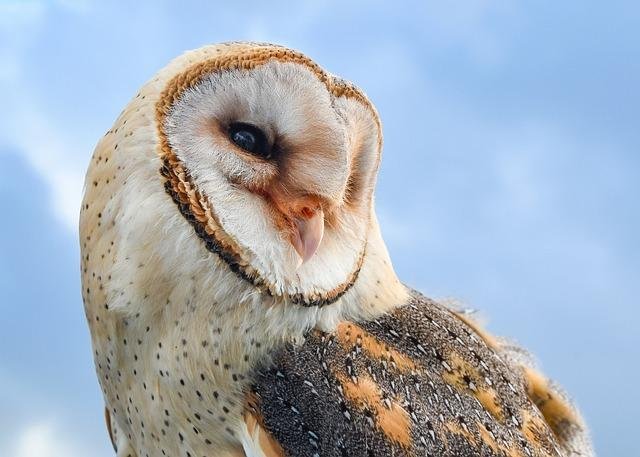Non_Gorille: (66, 14, 576, 457)
